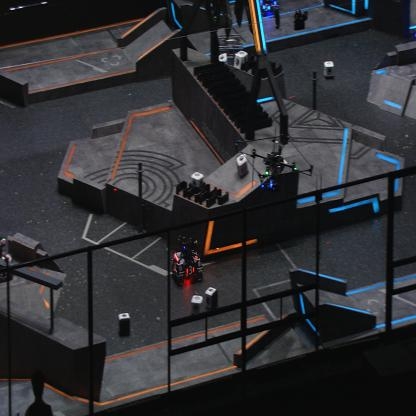car: (170, 232, 204, 286), (253, 0, 279, 16)
